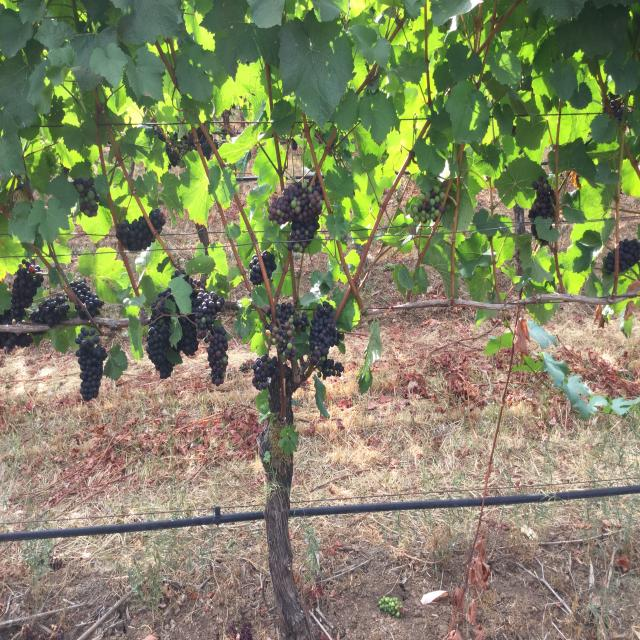grapes: (145, 287, 199, 378), (269, 180, 324, 253), (0, 260, 44, 325), (309, 302, 344, 377), (75, 327, 108, 402), (266, 303, 309, 360), (529, 177, 556, 238), (192, 290, 225, 338), (116, 217, 154, 252), (70, 278, 104, 317), (29, 295, 70, 327), (208, 327, 228, 385), (74, 177, 100, 218), (252, 353, 279, 390), (619, 238, 640, 273), (0, 333, 32, 350), (249, 255, 264, 285), (261, 250, 276, 278), (150, 208, 165, 233), (604, 250, 615, 273), (75, 305, 88, 318)
